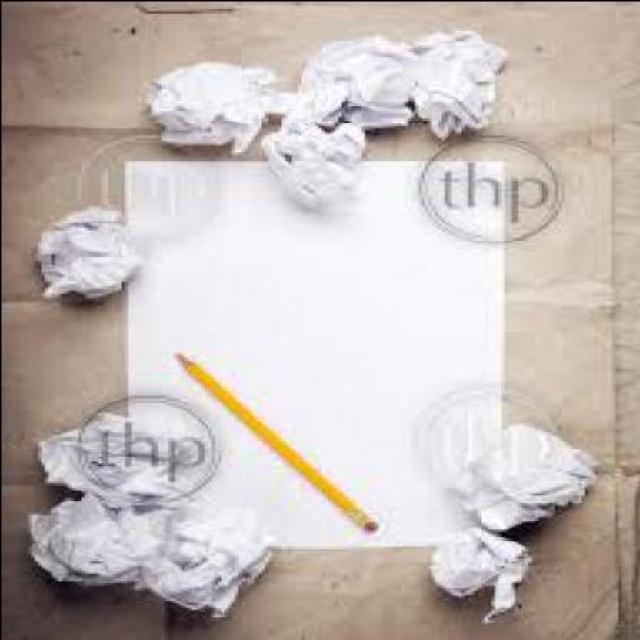PAPER: (113, 153, 501, 545), (290, 24, 504, 139), (29, 406, 217, 506), (440, 425, 594, 533), (130, 506, 273, 611), (23, 489, 163, 591), (246, 97, 363, 214), (143, 58, 274, 151), (26, 201, 137, 297), (420, 523, 523, 615)
